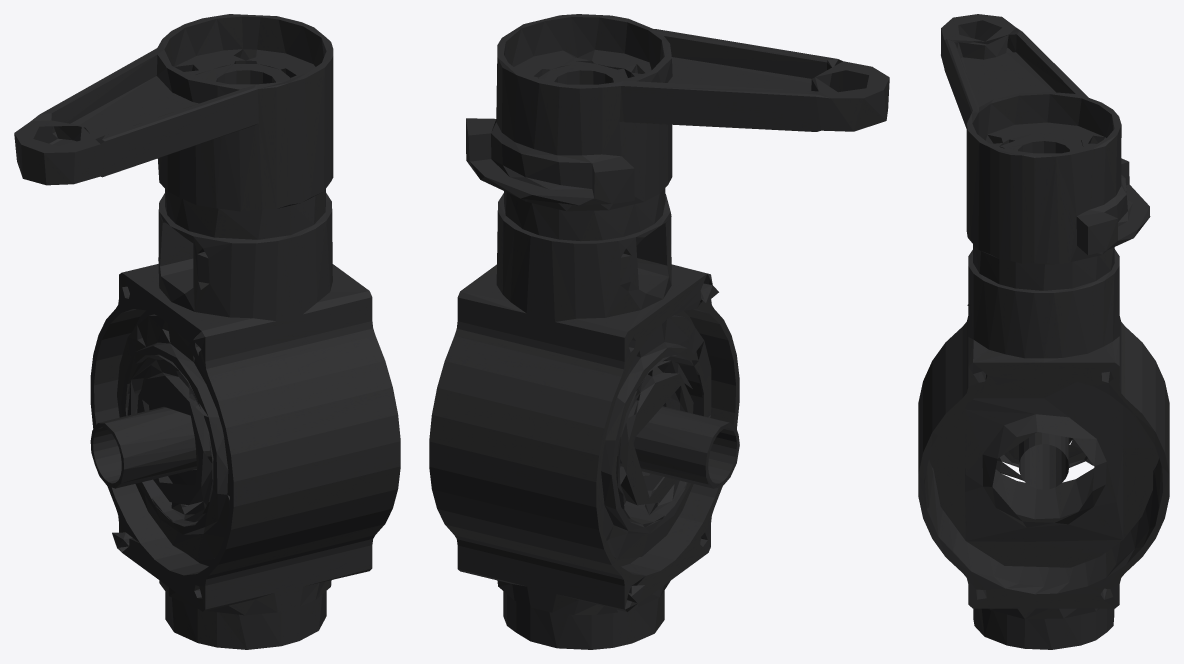
File: ankle_Y_lo_res.dae
The picture shows the model from 3 angles, left to right: view 1: azimuth 30°, elevation 25°; view 2: azimuth 150°, elevation 25°; view 3: azimuth 270°, elevation 25°; orthographic projection. The views are drawn at different scales.
Visible parts, largest first — view 1: node; view 2: node; view 3: node.
Part boxes in pixels (bbox=[...]): node: bbox=[14, 14, 400, 649]; node: bbox=[429, 14, 889, 649]; node: bbox=[918, 14, 1169, 649].
Size of the model in its own units: 0.1143 by 0.1758 by 0.0796.
1 material, 1 textured.
